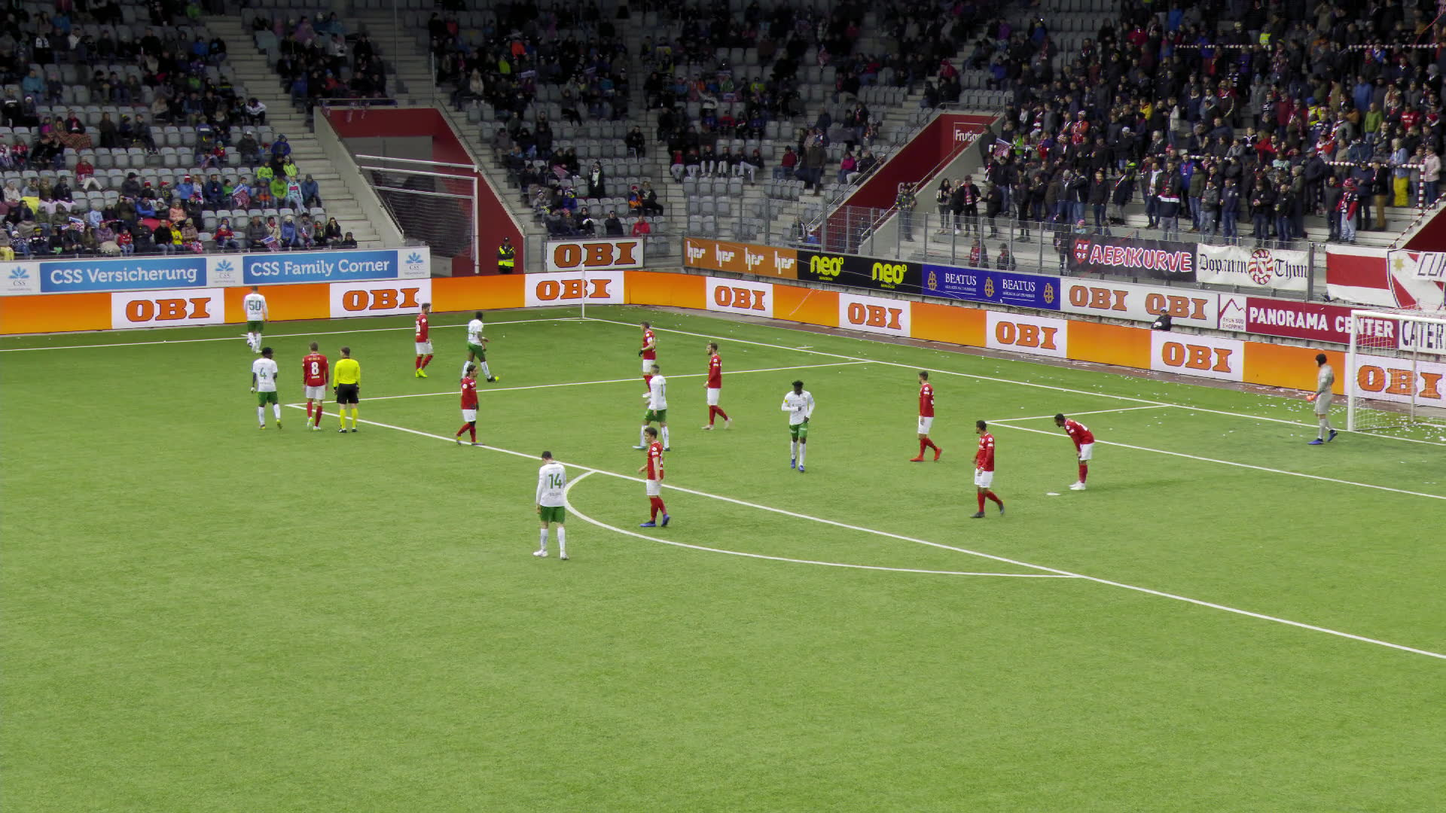ball: (246, 338, 252, 347)
player: (529, 445, 572, 561), (960, 417, 1006, 520), (632, 425, 672, 532), (1299, 350, 1342, 447), (633, 360, 674, 455), (905, 367, 945, 463), (1051, 407, 1096, 492), (694, 341, 733, 433), (778, 379, 816, 473), (456, 309, 501, 385), (448, 364, 487, 449), (248, 343, 285, 431), (295, 340, 330, 433), (406, 301, 436, 381), (631, 318, 661, 398), (239, 284, 270, 355)
referee: (331, 345, 364, 435)
